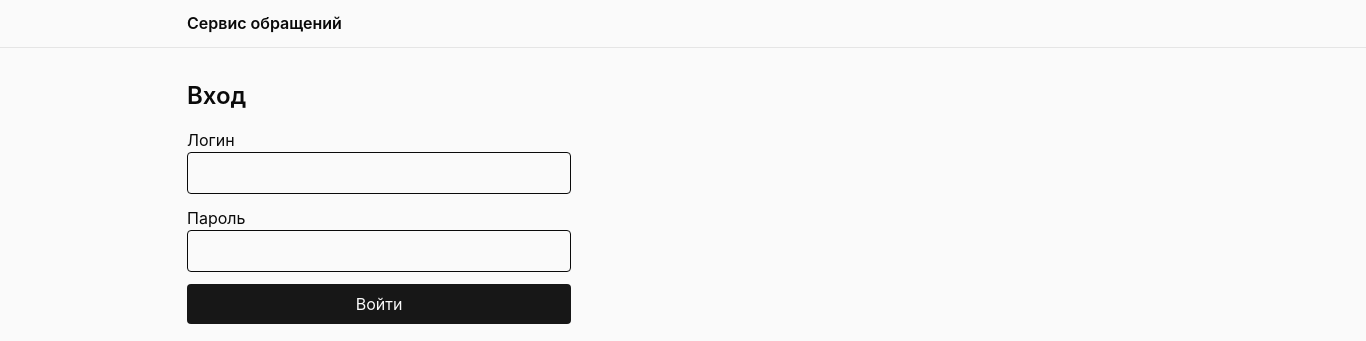
Scenario: directs user to its portal after login
In the field labelled "Логин": x=379, y=173 187,152 -> 571,194, type "demo"
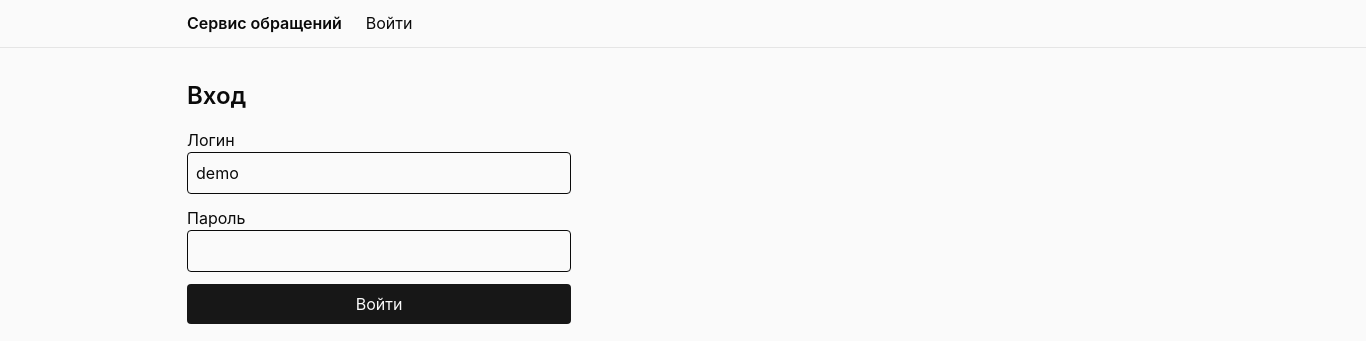
In the password field labelled "Пароль": x=379, y=251 187,230 -> 571,272, type "secret"
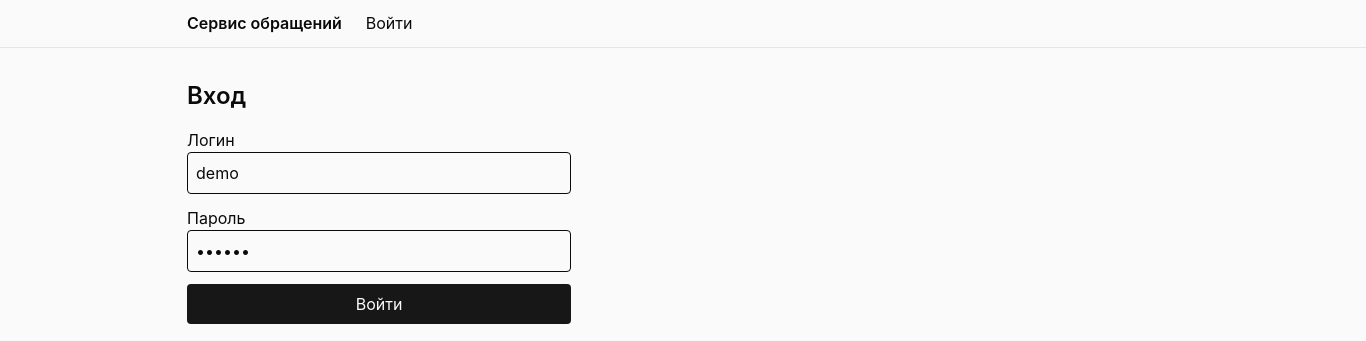
Click the button "Войти": x=379, y=304 187,284 -> 571,324
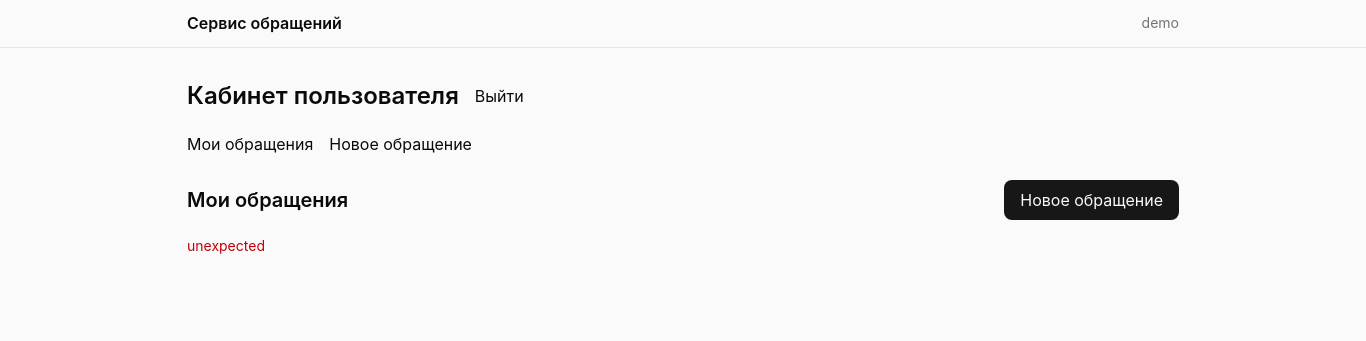
Check: the heading "Кабинет пользователя" is shown, box 187,80 -> 459,112
